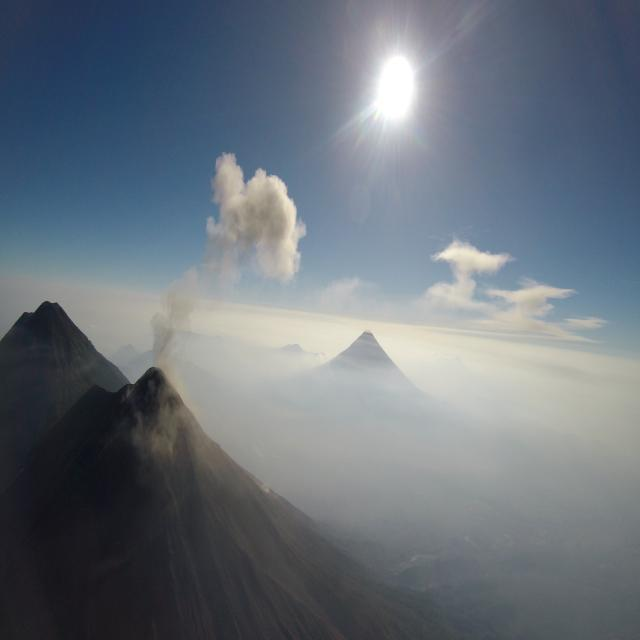Plume: (208, 136, 310, 288), (136, 262, 214, 362)
Summit: (70, 358, 204, 436)
